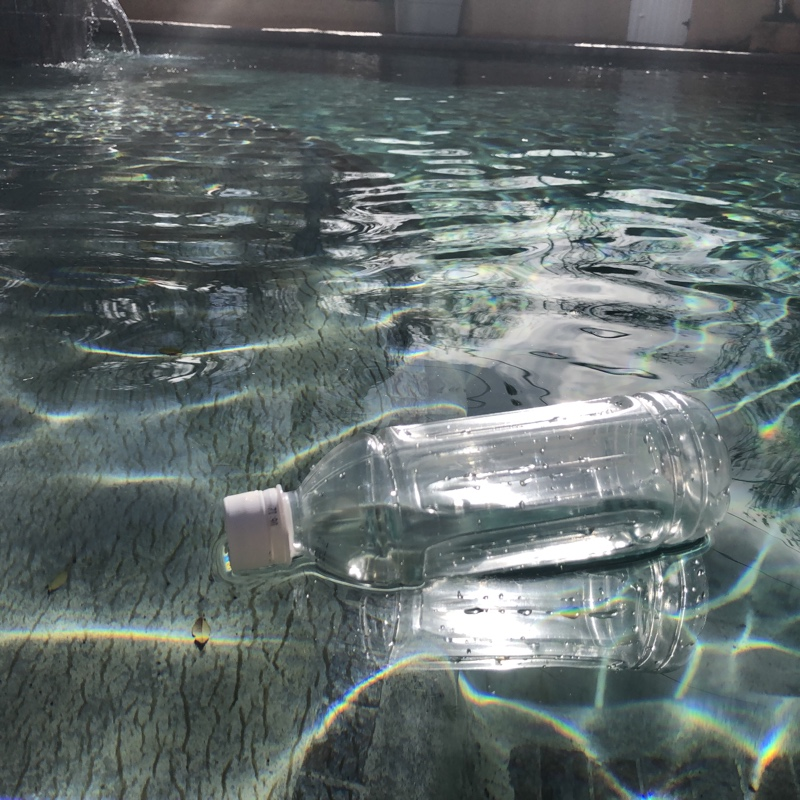Plastic Bottle: (214, 387, 734, 580)
